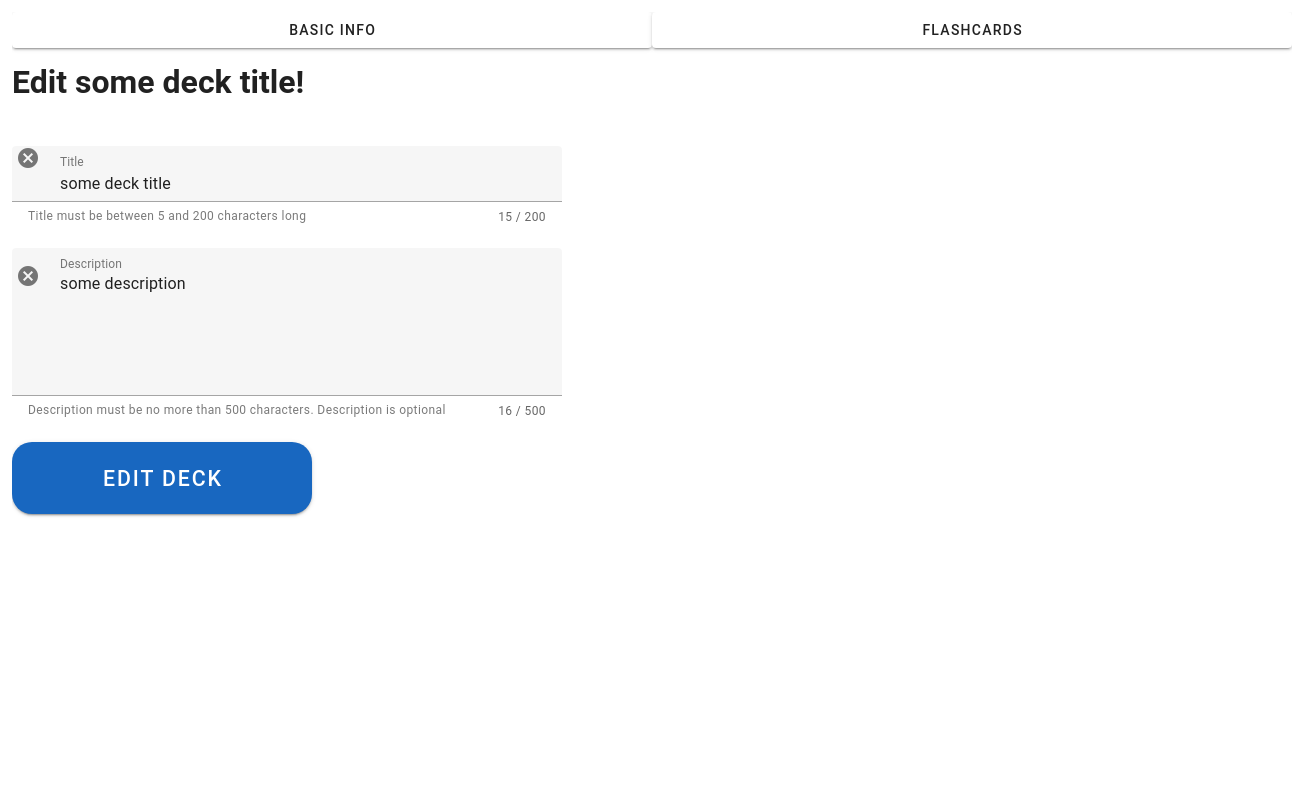
Test: DeckForm component › Prop passing › Renders correct heading and submit button if context prop is edit (and deck is provided)
This screenshot has width=1304, height=812.
Expected: the heading "Edit some deck title!" is shown, [12,63,304,101]
Expected: the text "Edit Deck" is shown, [101,466,223,491]
Click the button with aria-label "Manage flashcards": [972, 30] box [652,12,1292,48]
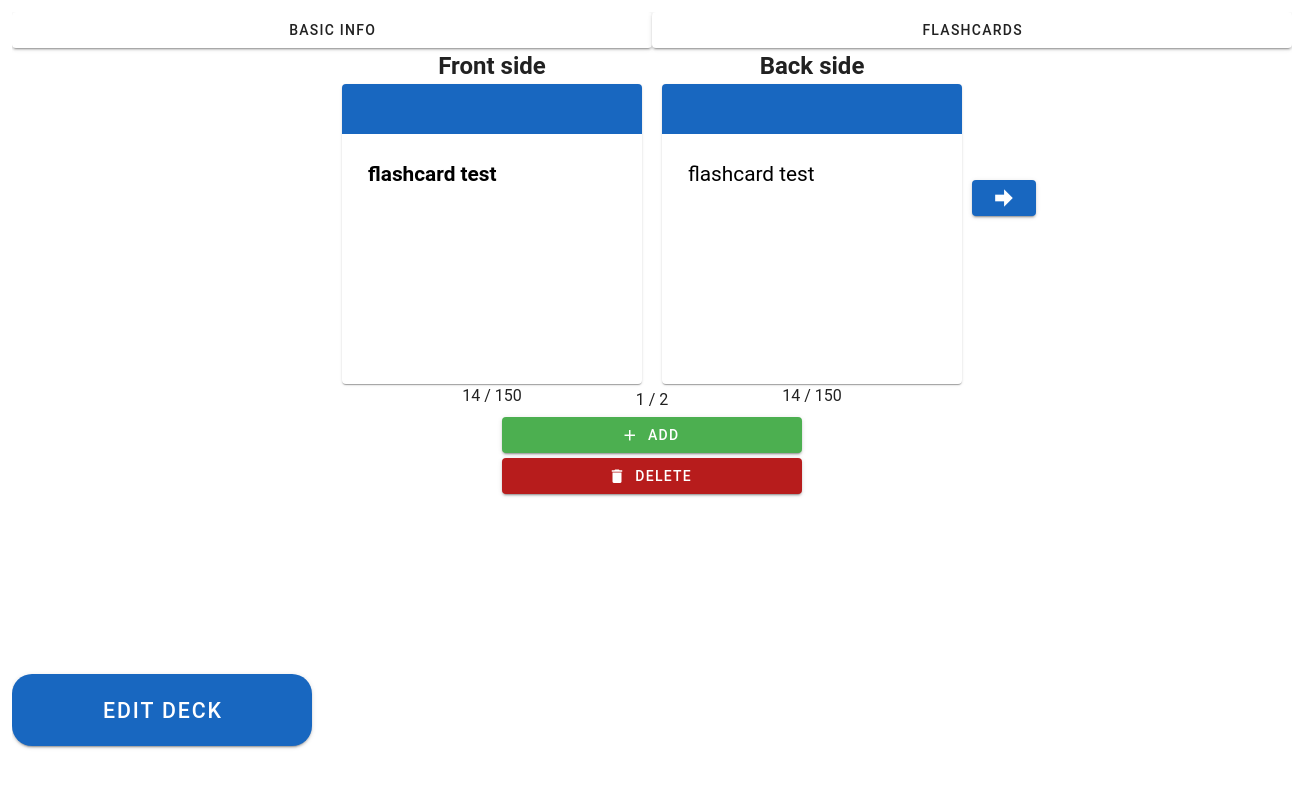
Expected: the text "1 / 2" is shown, [636,388,668,412]
